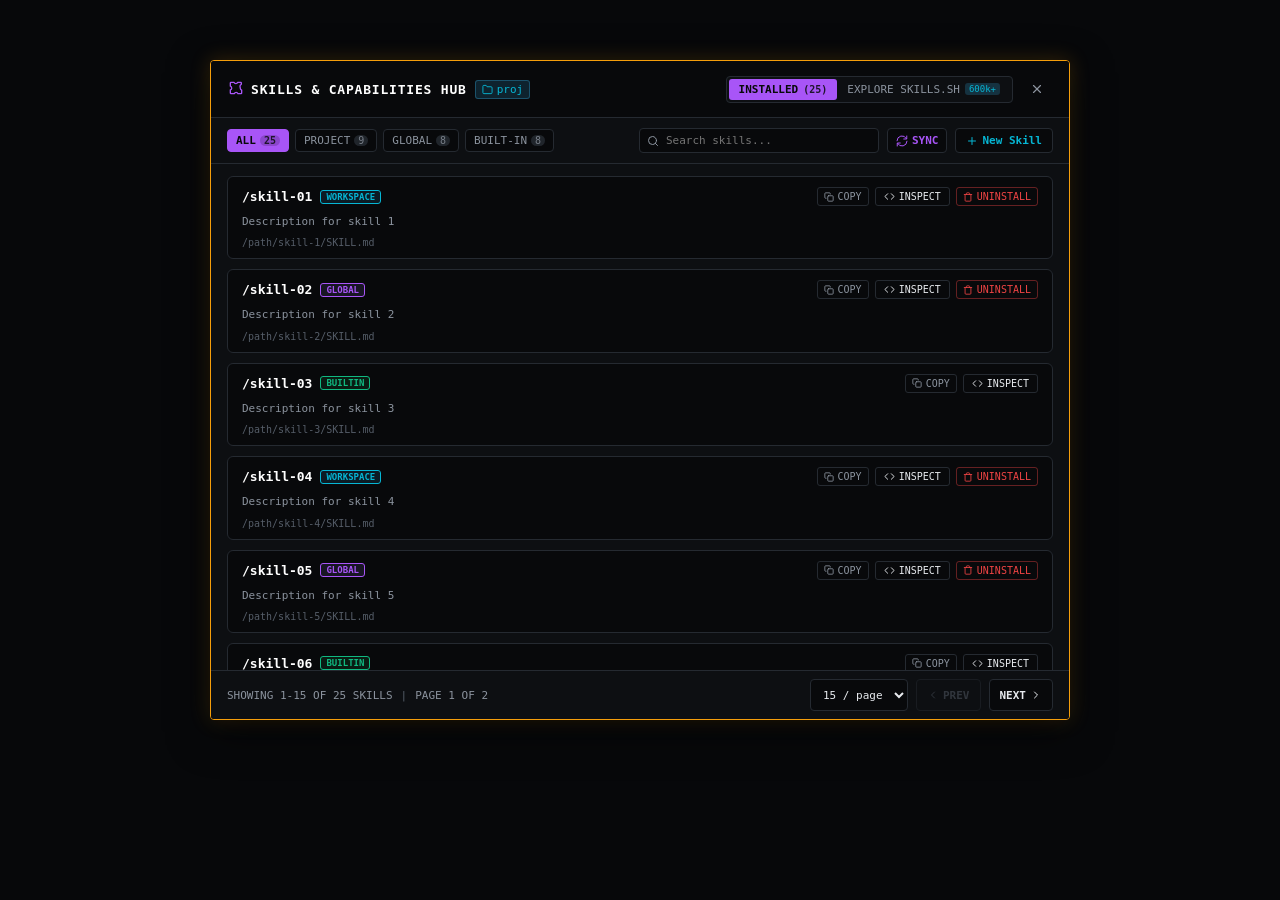
Test case: SkillsManagementModal › disables PREV button on first page and NEXT button on last page
Expected: the text "/skill-01" is shown, [242,189,312,204]
Select "10 / page" in the dropdown named "Items per page". click: (859, 695)
box: [810,679,908,711]
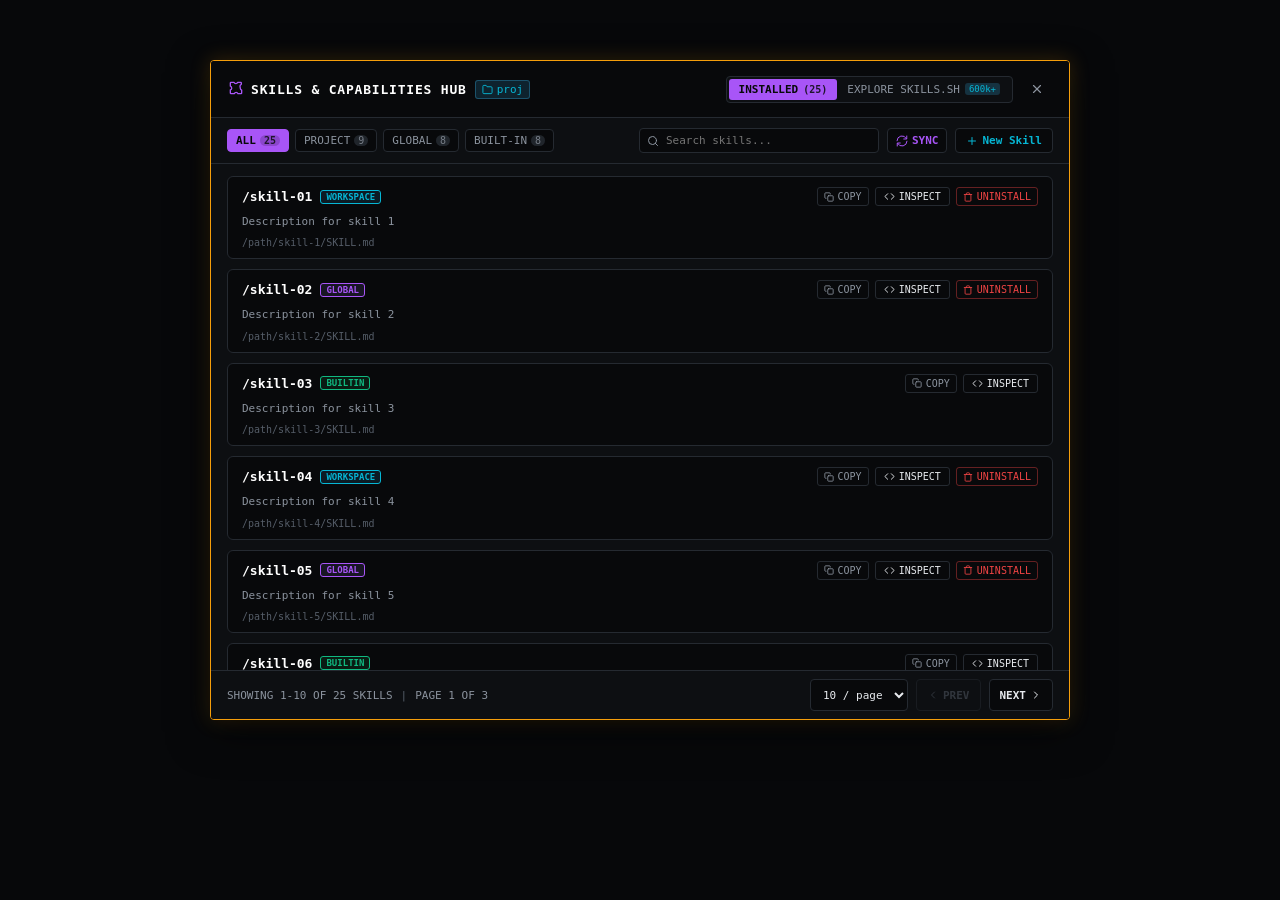
Expected: the button "PREV" is disabled, [916,679,980,711]
Note: Navigate to page 2 then page 3
Click the button "NEXT". click: (1021, 695)
box: [988,679,1053,711]
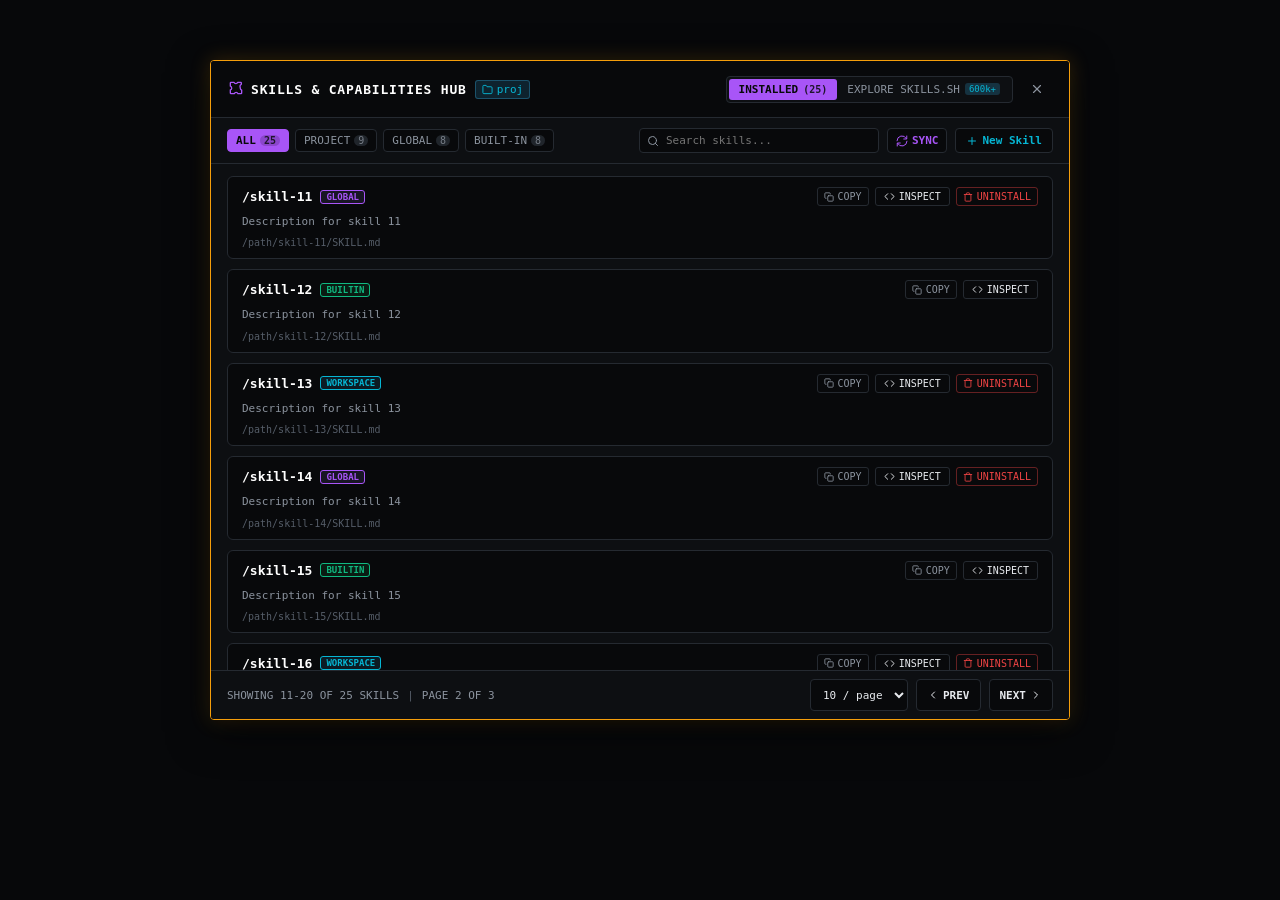
Now the text "PAGE 2 OF 3" is shown, box [422,688,495,702]
Now the button "PREV" is enabled, box [916,679,980,711]
Click the button "NEXT". click: (1021, 695)
box: [988,679,1053,711]
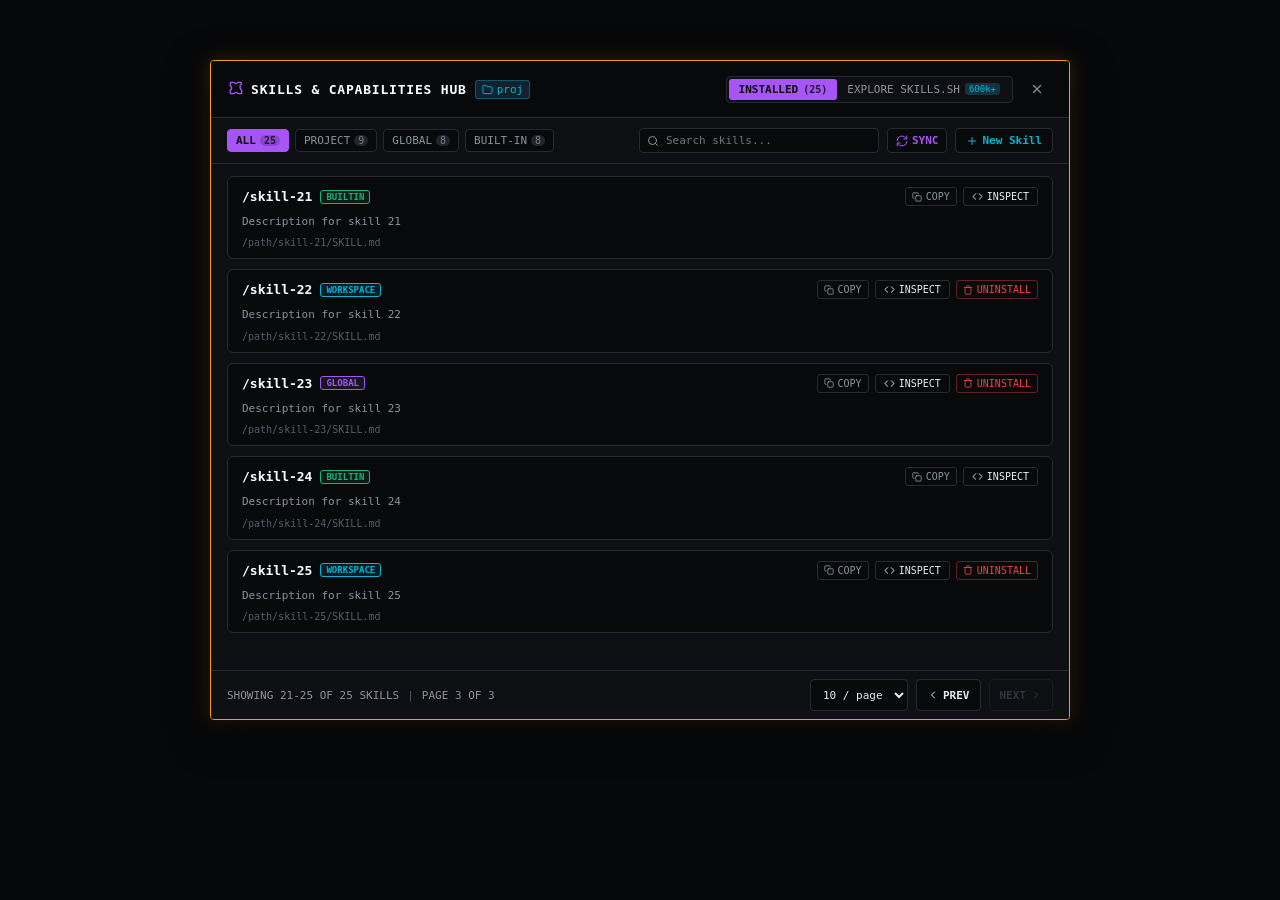
Now the button "PREV" is enabled, box [916,679,980,711]
Now the text "PAGE 3 OF 3" is shown, box [422,688,495,702]
Now the button "NEXT" is disabled, box [988,679,1053,711]
